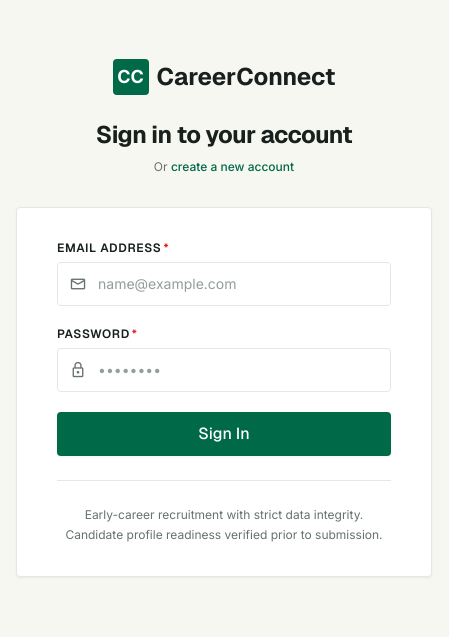
Test case: LoginPage Integration › displays error banner when login fails with invalid credentials
This screenshot has width=449, height=637.
In the field labelled "Email Address*": (224, 284) [57,262,391,306], type "bad@test.com"
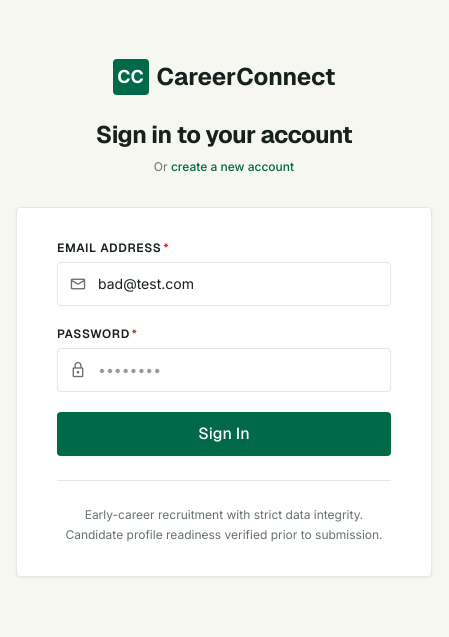
In the password field labelled "Password*": (224, 370) [57,348,391,392], type "wrongpass"
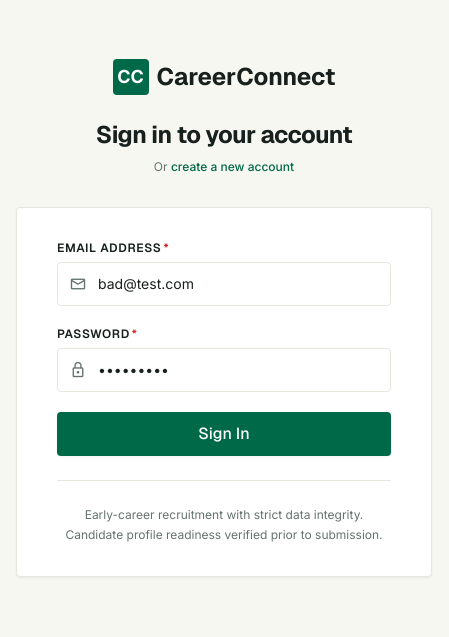
Click the button "Sign In": (224, 434) [57,412,391,456]
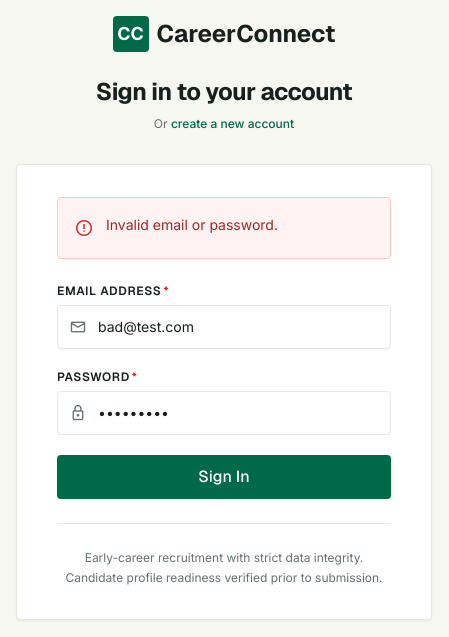
Check: the text "Invalid email or password." is shown, box [106,216,278,233]
